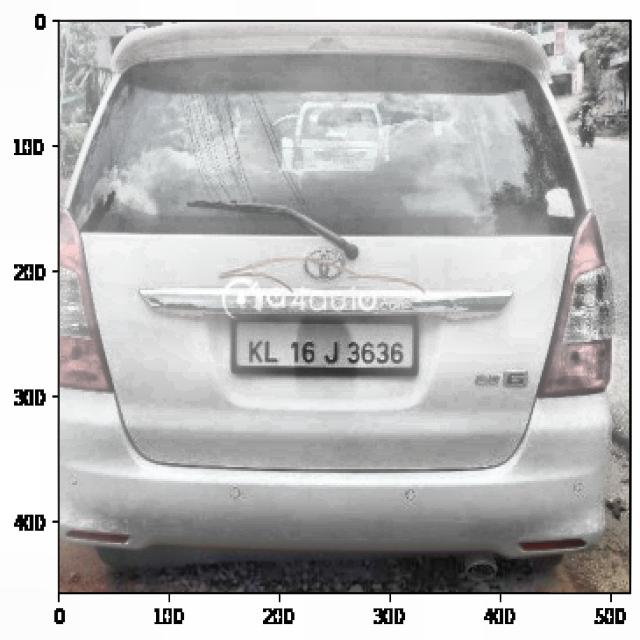license_plate: (234, 330, 416, 373)
